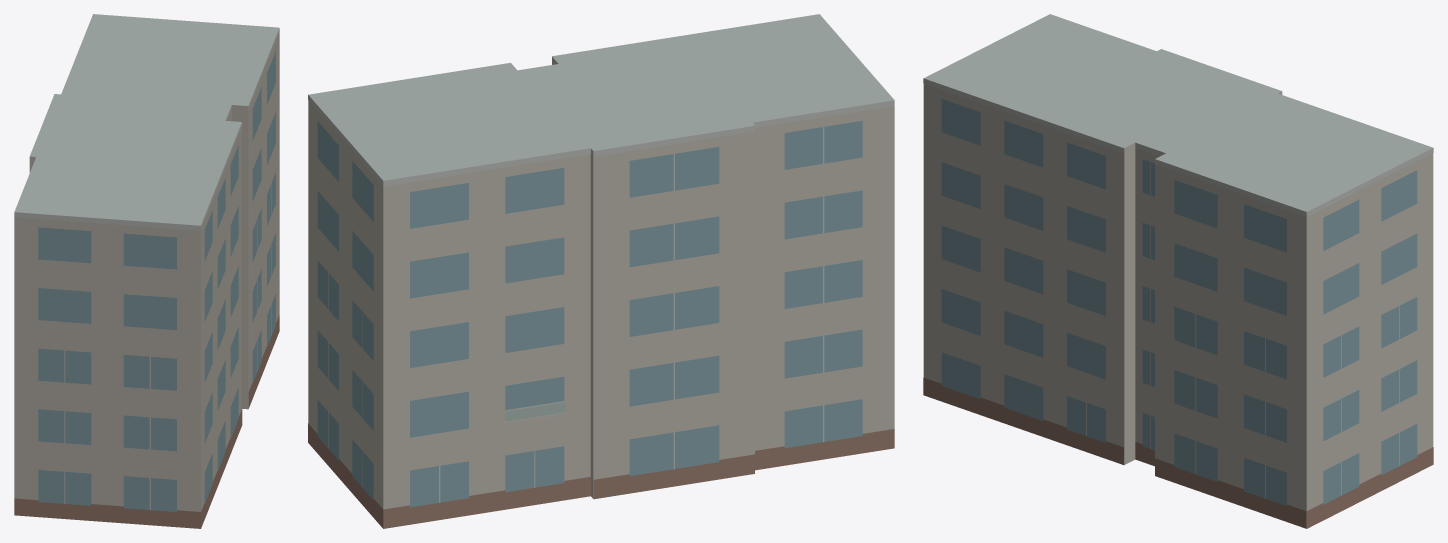
File: survey-upis-32670257.glb
The picture shows the model from 3 angles, left to right: view 1: azimuth 30°, elevation 25°; view 2: azimuth 150°, elevation 25°; view 3: azimuth 270°, elevation 25°; orthographic projection. The views are drawn at different scales.
Visible parts, largest first — view 1: survey-upis-32670257.tmp; view 2: survey-upis-32670257.tmp; view 3: survey-upis-32670257.tmp.
Part boxes in pixels (box(x1,y1,x2,y2)): survey-upis-32670257.tmp: box(14, 14, 279, 528); survey-upis-32670257.tmp: box(308, 14, 894, 528); survey-upis-32670257.tmp: box(923, 14, 1433, 528).
Bounding box in the file's own units: 19.97 × 14.9 × 21.74.
